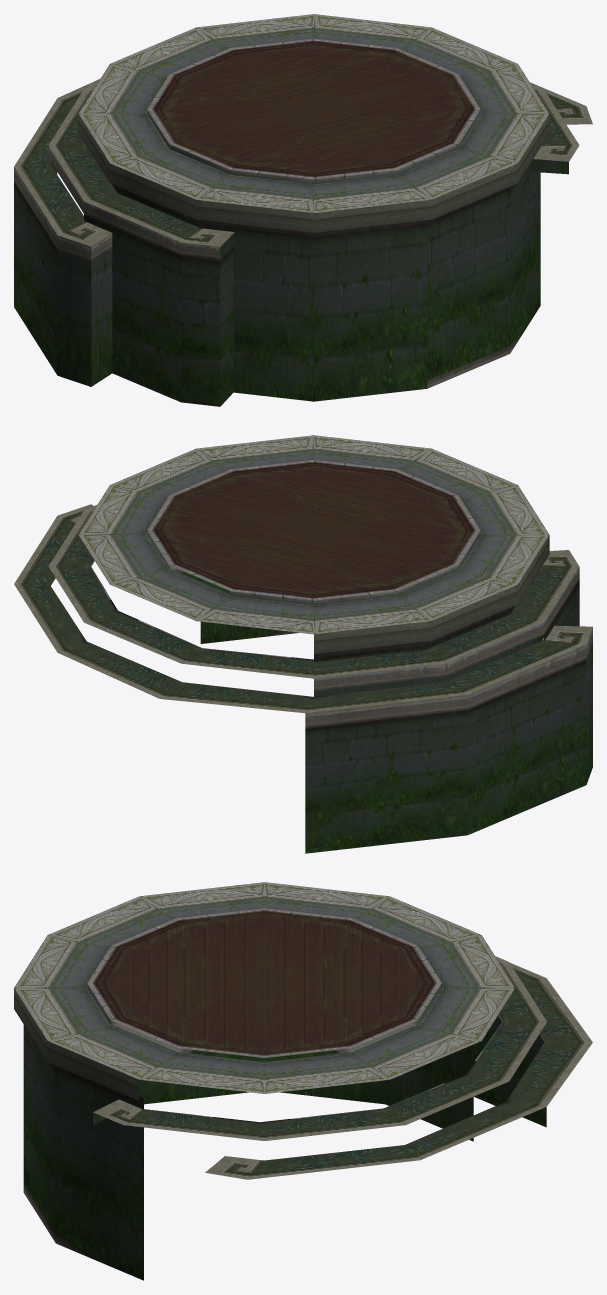
The model's file is zc_suzhou_banghuitaizi.FBX.
3 renders of one model, top to bottom at view 1: azimuth 30°, elevation 25°; view 2: azimuth 150°, elevation 25°; view 3: azimuth 270°, elevation 25°, orthographic. The views are drawn at different scales.
Visible parts, largest first — view 1: zc_suzhou_banghuitaizi; view 2: zc_suzhou_banghuitaizi; view 3: zc_suzhou_banghuitaizi.
Boxes of the visible parts, x1,y1,x2,y2 form: zc_suzhou_banghuitaizi: (14, 14, 592, 406); zc_suzhou_banghuitaizi: (14, 435, 592, 853); zc_suzhou_banghuitaizi: (14, 882, 592, 1280).
Bounding box in the file's own units: 1816 × 646 × 1618.
1 material, 1 textured.
